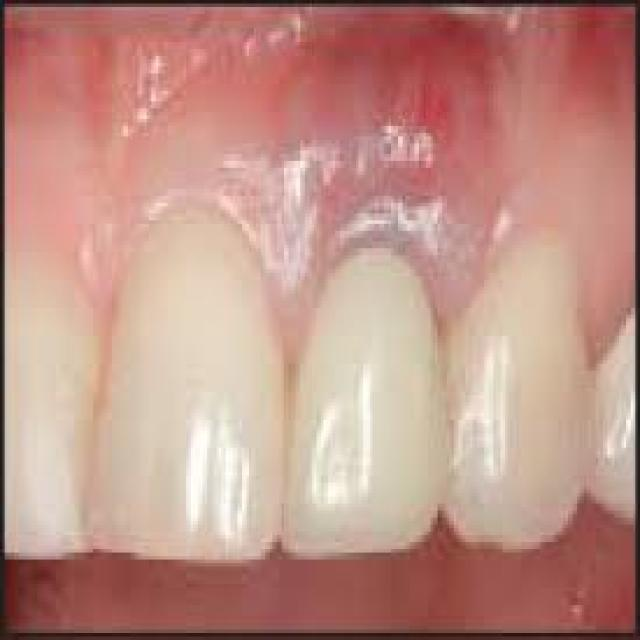abscess: (379, 55, 510, 162)
